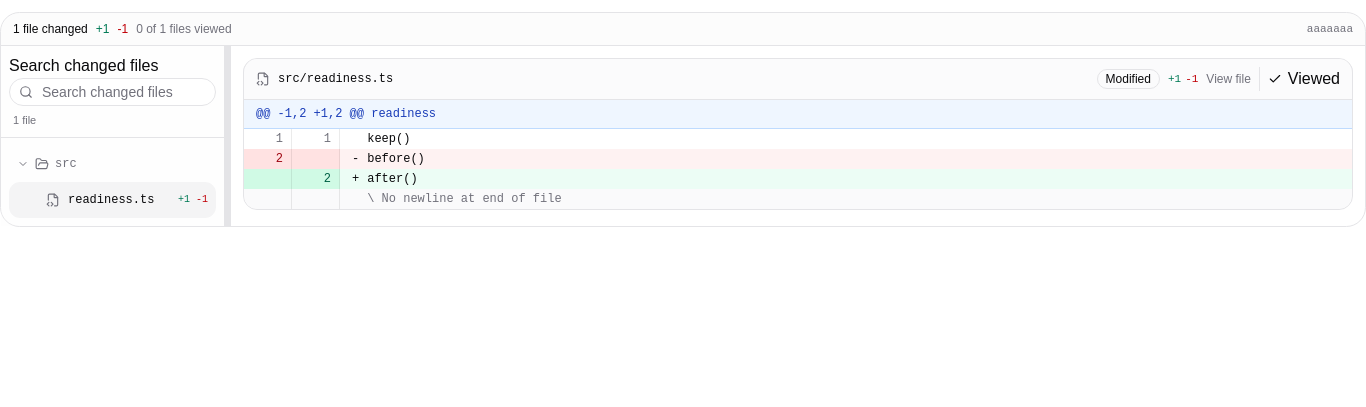
Test case: PullDiff › keeps preflight failures editable with the precise error and allows an immediate retry
Click the button named "Give Claude feedback on new line 2": (316, 179) top-left (292, 169), bottom-right (340, 189)
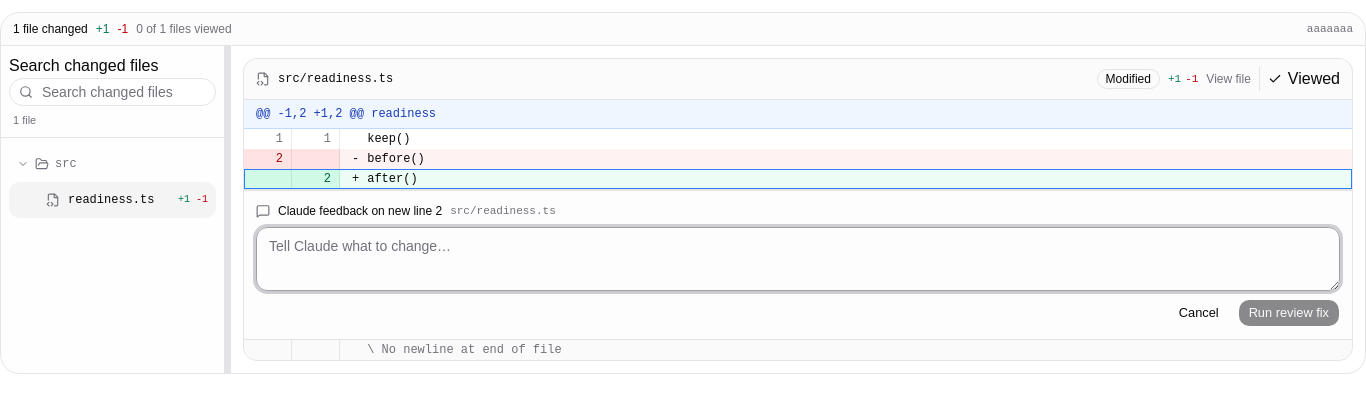
In the text box: (798, 259) top-left (256, 227), bottom-right (1340, 291), type "Keep editing this."
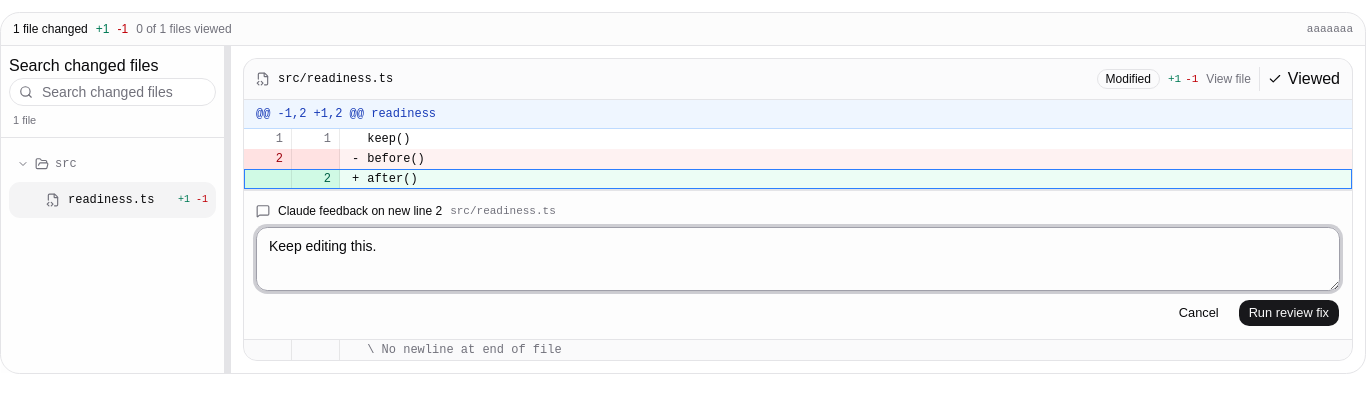
Click the button "Run review fix": (1289, 313) top-left (1238, 299), bottom-right (1340, 327)
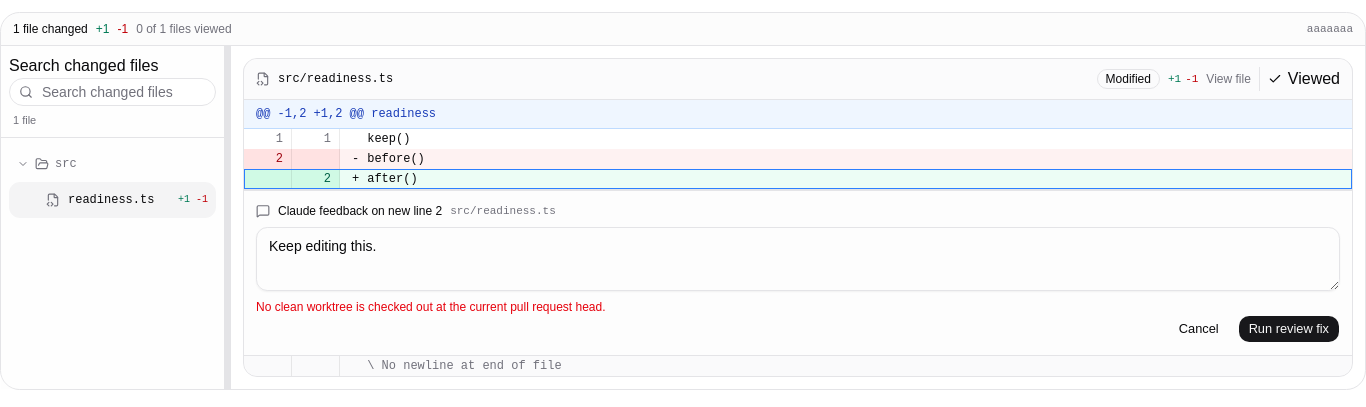
Expected: the text box is enabled, top-left (256, 227), bottom-right (1340, 291)
Expected: the button "Run review fix" is enabled
Expected: the message reads "No clean worktree is checked out at the current pull request head.", top-left (256, 300), bottom-right (606, 314)
Click the button "Run review fix": (1289, 329) top-left (1238, 315), bottom-right (1340, 343)
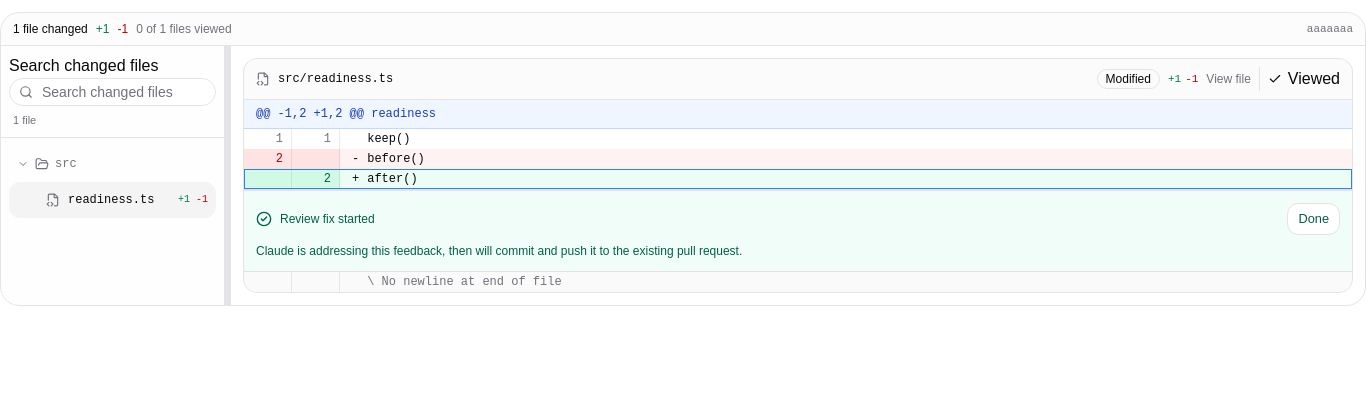
Expected: the text "Review fix started" is shown, top-left (280, 211), bottom-right (375, 227)
